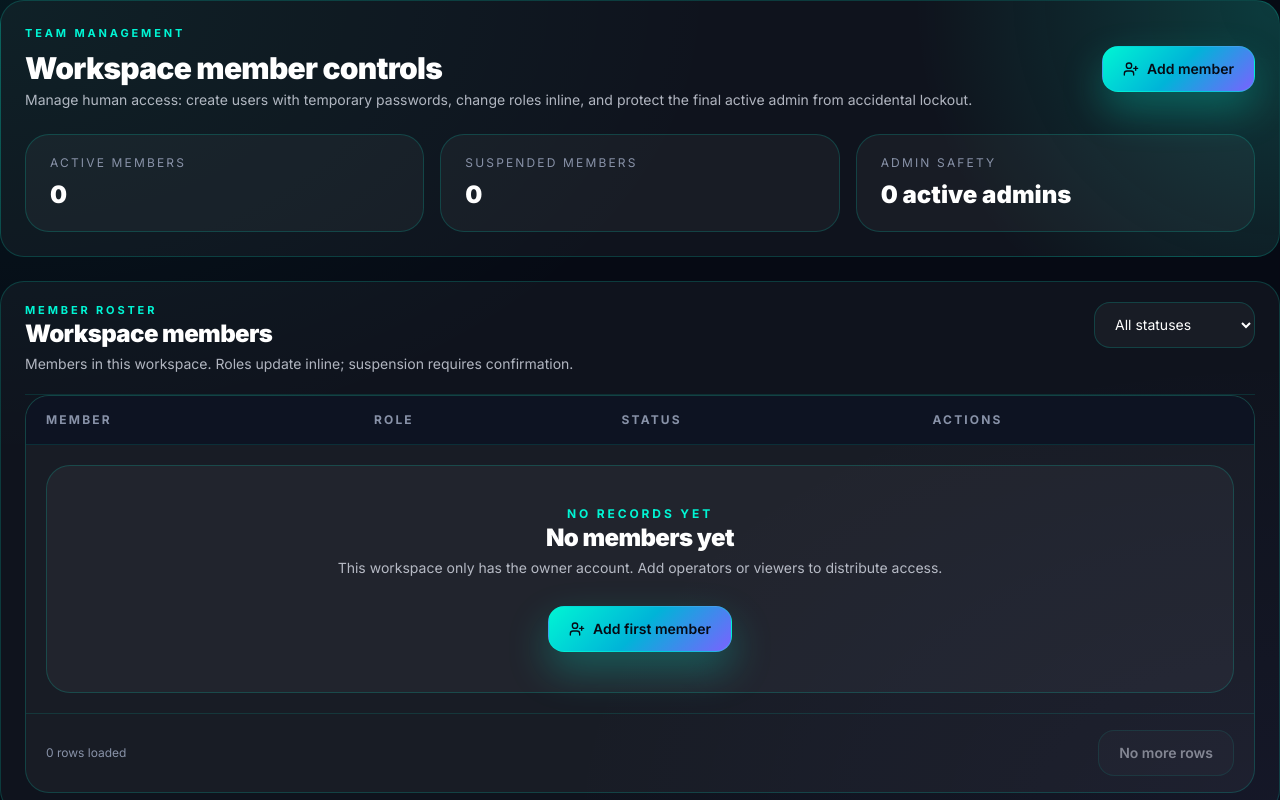
Test case: MembersPage › enforces temporary password rules in create form
Expected: the text "0 rows loaded" is shown, [46,741,126,765]
Click the button "Add member" at (1178, 69), box [1102,46,1255,92]
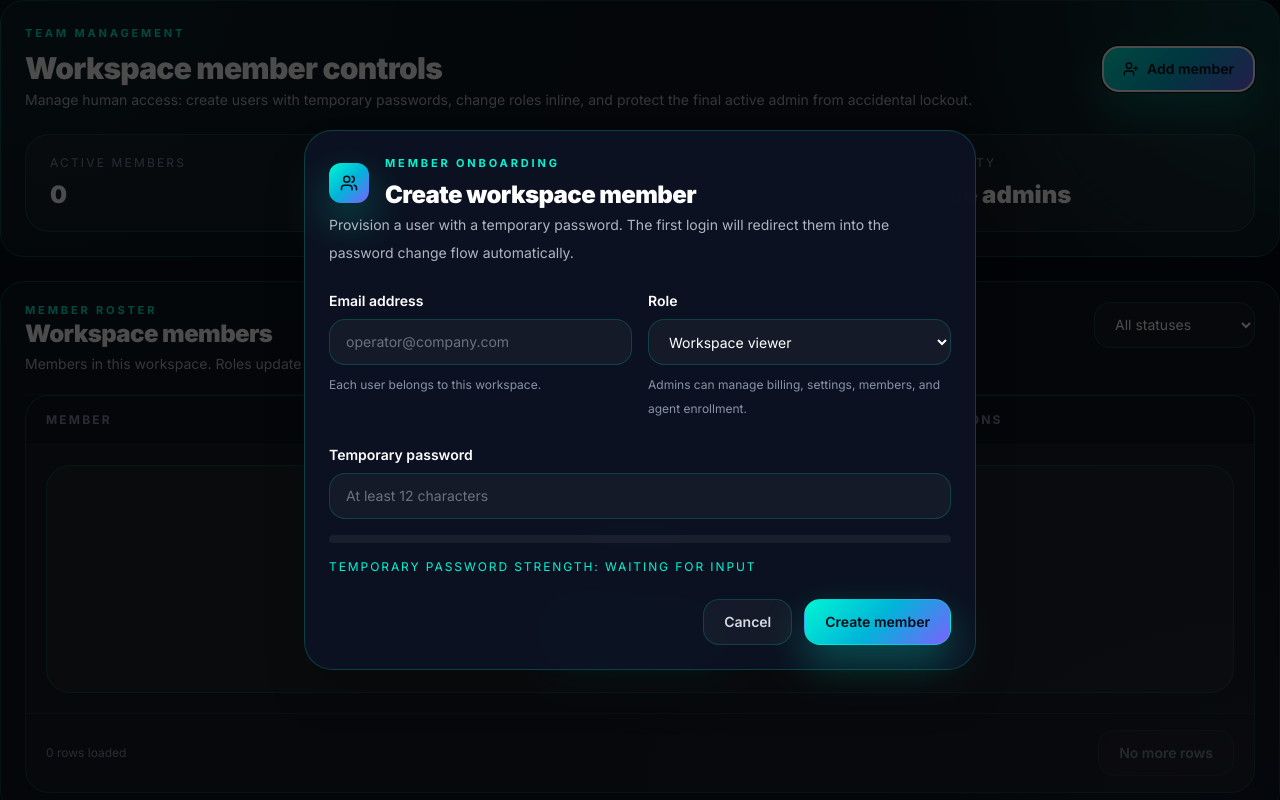
Note: Too short
Type "short" into the field labelled "Temporary password" at (640, 496), box [329,473,951,519]
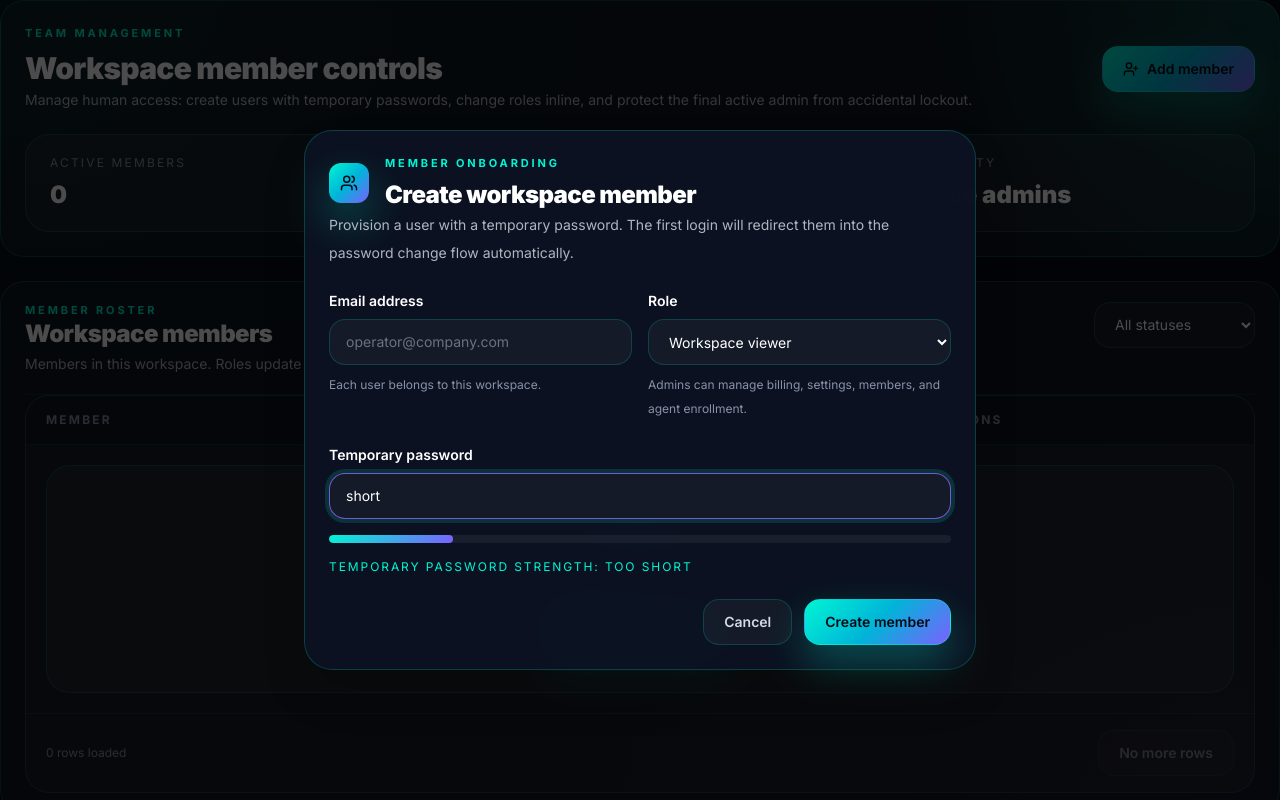
Result: the text "Temporary password strength: too short" is shown at [329,559,693,574]
Note: Obvious weak password
Replace the text in the field labelled "Temporary password" with "password123!" at (640, 496), box [329,473,951,519]
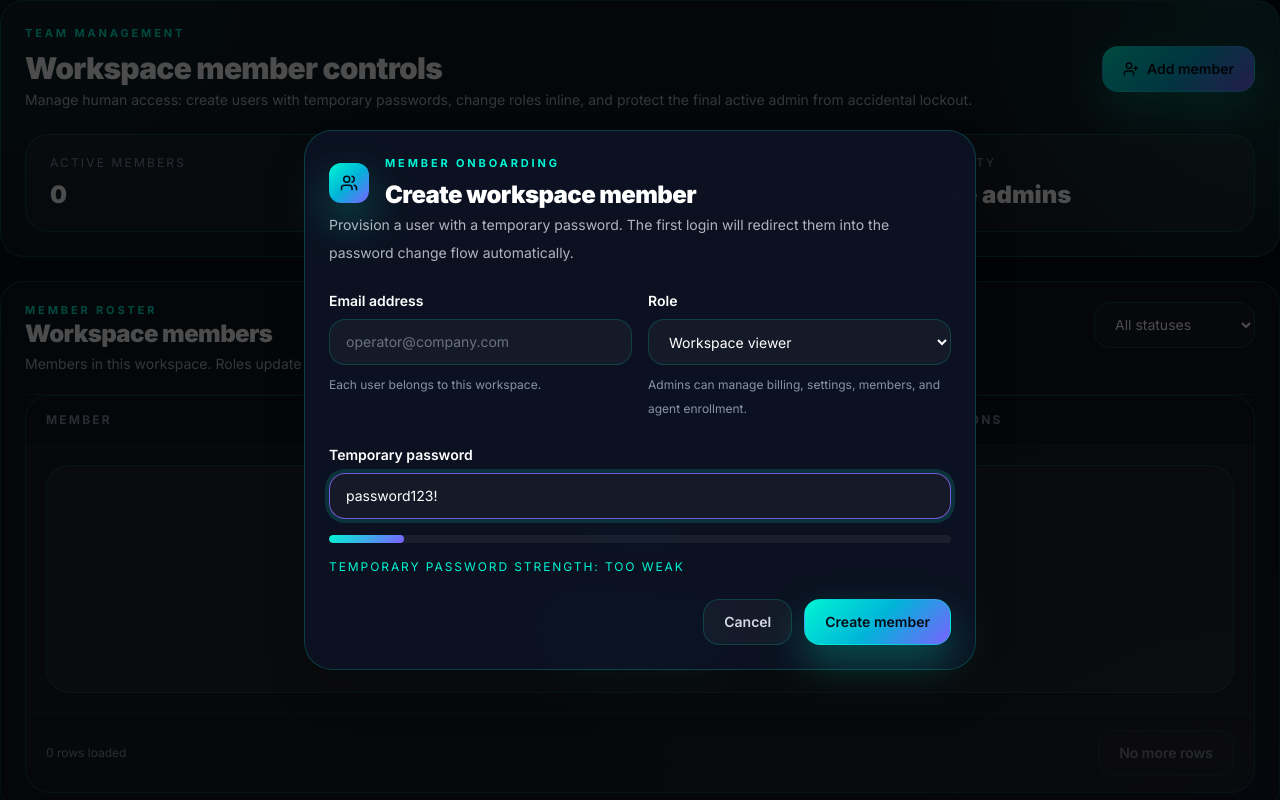
Result: the text "Temporary password strength: too weak" is shown at [329,559,685,574]
Note: Valid strong password
Replace the text in the field labelled "Temporary password" with "ComplexPassword123!" at (640, 496), box [329,473,951,519]
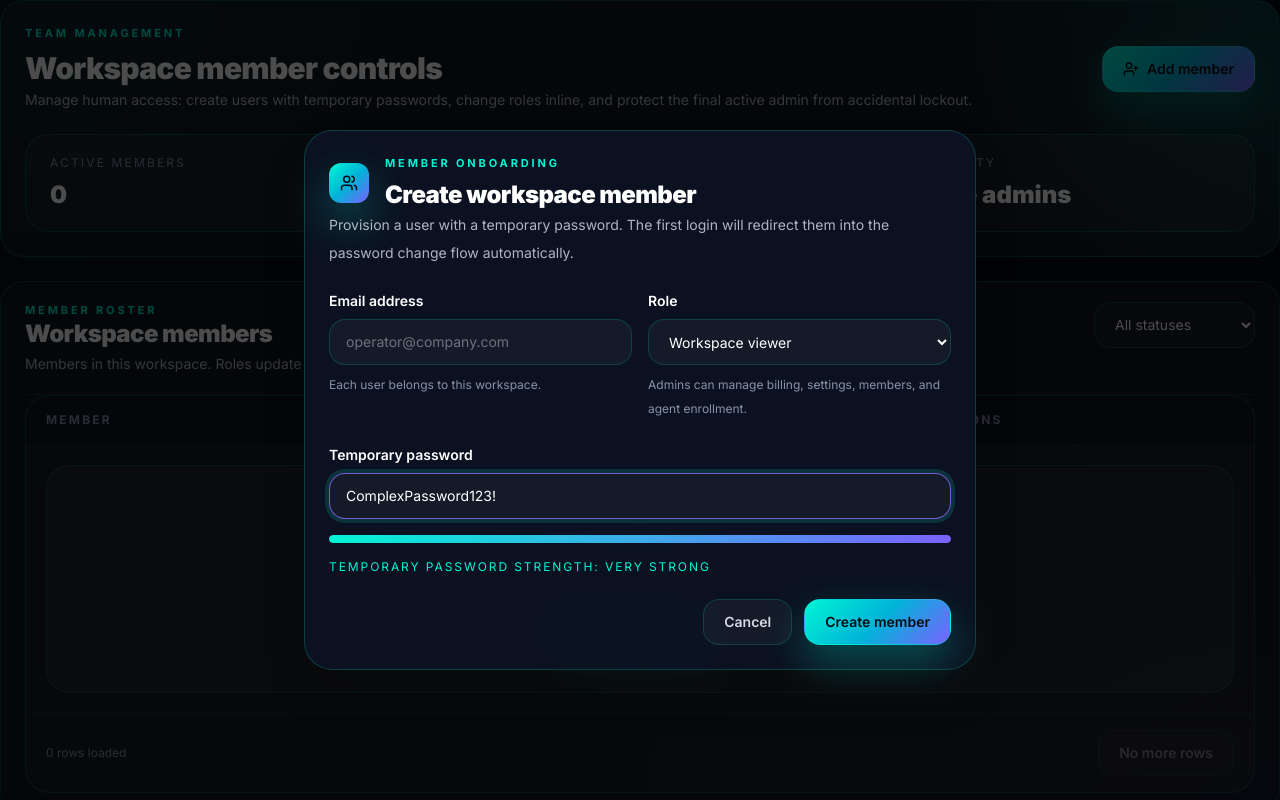
Result: the text "Temporary password strength: very strong" is shown at [329,559,711,574]
